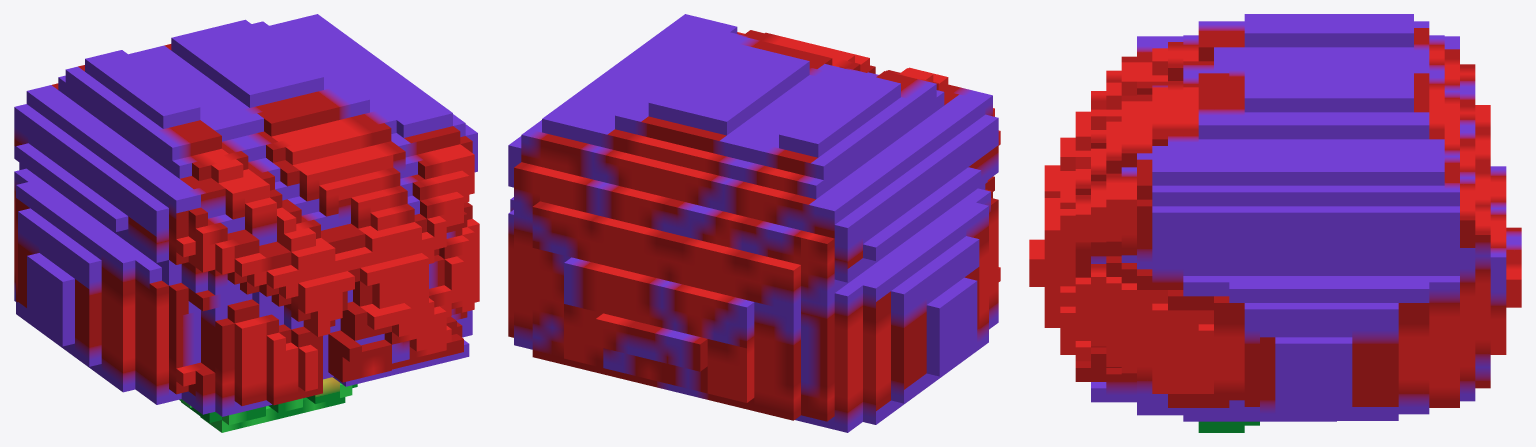
Rendered from Matrix_11.fbx.
3 views of the same model, side by side, from view 1: azimuth 30°, elevation 25°; view 2: azimuth 150°, elevation 25°; view 3: azimuth 270°, elevation 25° (orthographic). The views are drawn at different scales.
Parts seen in each view (by area): view 1: Matrix_11; view 2: Matrix_11; view 3: Matrix_11.
Part boxes in pixels (bbox=[...]): Matrix_11: bbox=[14, 14, 479, 432]; Matrix_11: bbox=[508, 14, 1000, 432]; Matrix_11: bbox=[1029, 14, 1521, 432].
Size of the model in its own units: 32 by 24 by 32.
